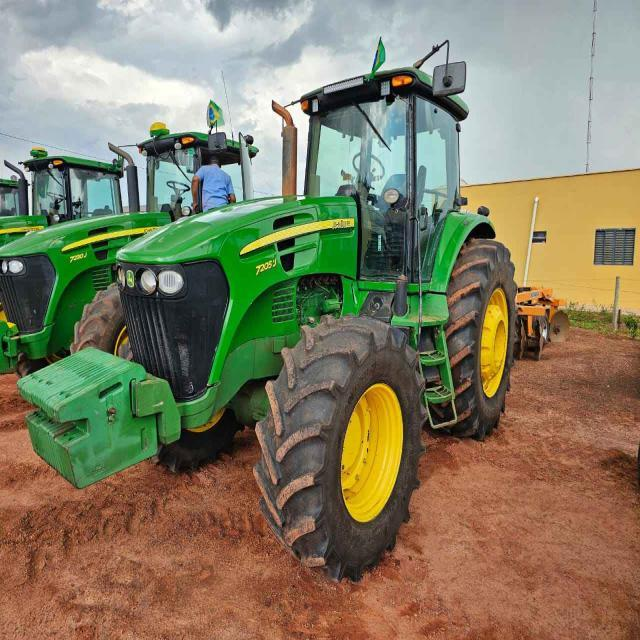Tratores - v5 YOLO V8L 2024-11-13: (25, 48, 517, 570), (6, 132, 238, 362), (0, 157, 127, 235)
